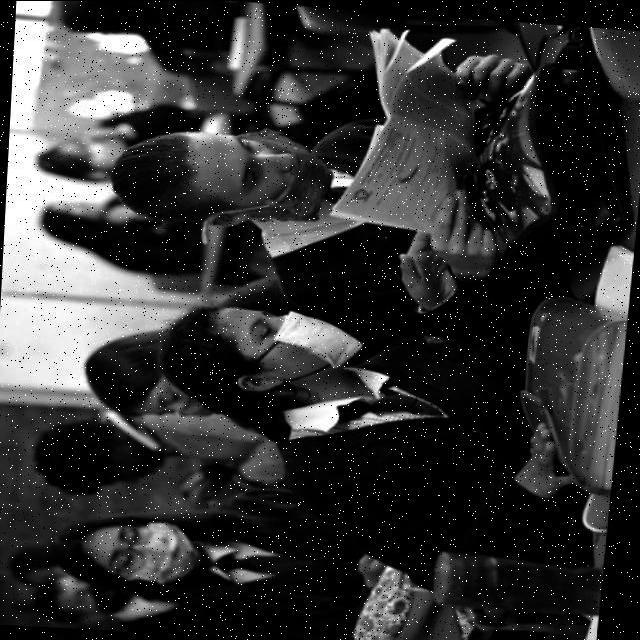mask: (278, 308, 354, 382), (138, 520, 195, 582)
no_apron: (391, 226, 446, 308), (507, 416, 567, 491), (452, 52, 528, 107), (436, 192, 495, 260)
no_gloves: (120, 140, 200, 208), (169, 302, 231, 389), (88, 344, 166, 406), (53, 524, 111, 600), (43, 430, 99, 480)
no_hairnet: (264, 134, 330, 208), (114, 442, 156, 486)
